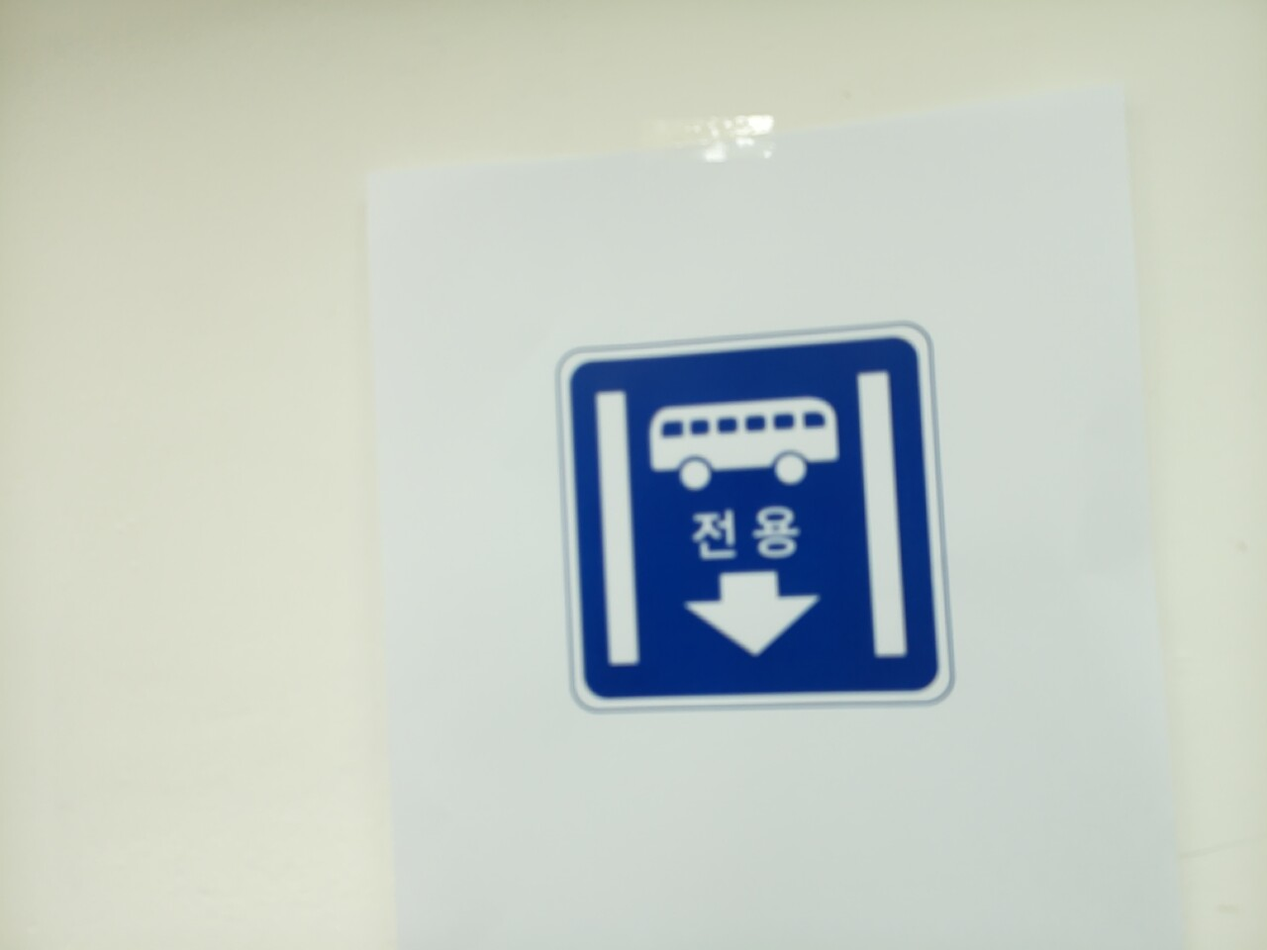bus_only_lane: (559, 327, 949, 710)
